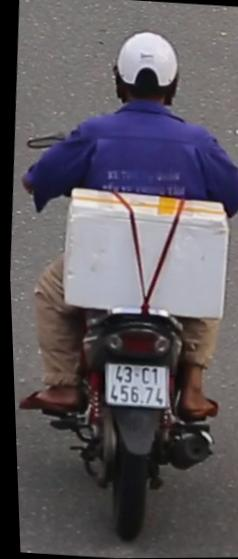LP: (97, 355, 171, 410)
helmet: (108, 24, 185, 114)
